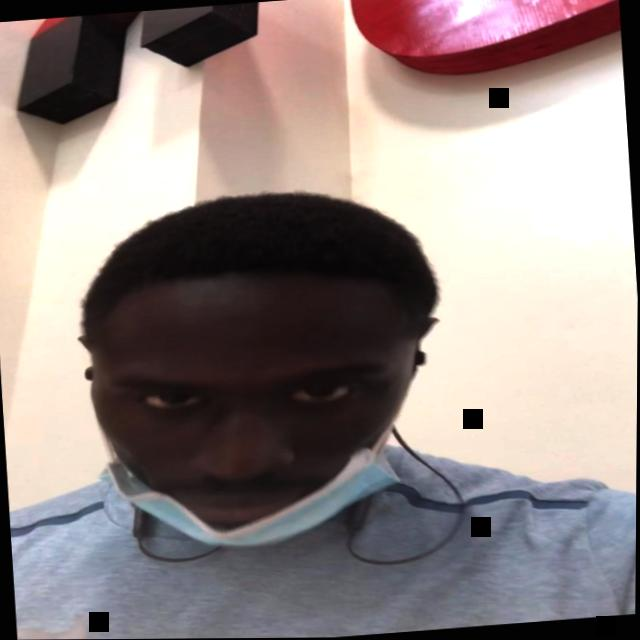NO-Mask: (82, 296, 438, 560)
